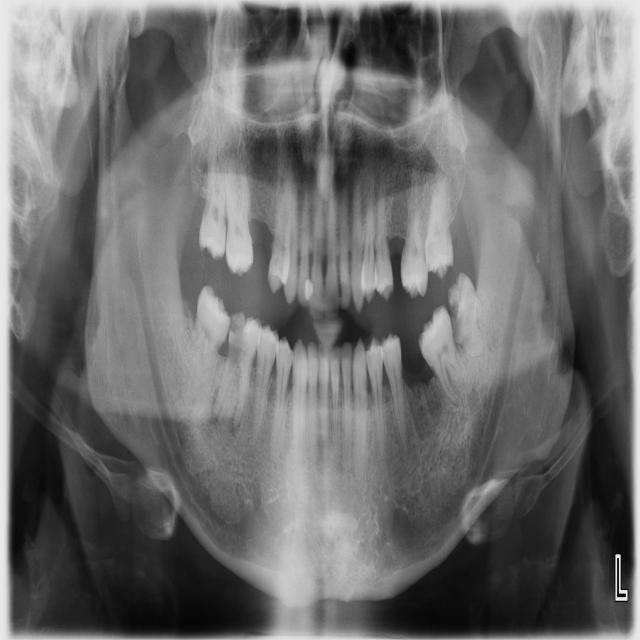mandibula: (88, 0, 574, 604)
